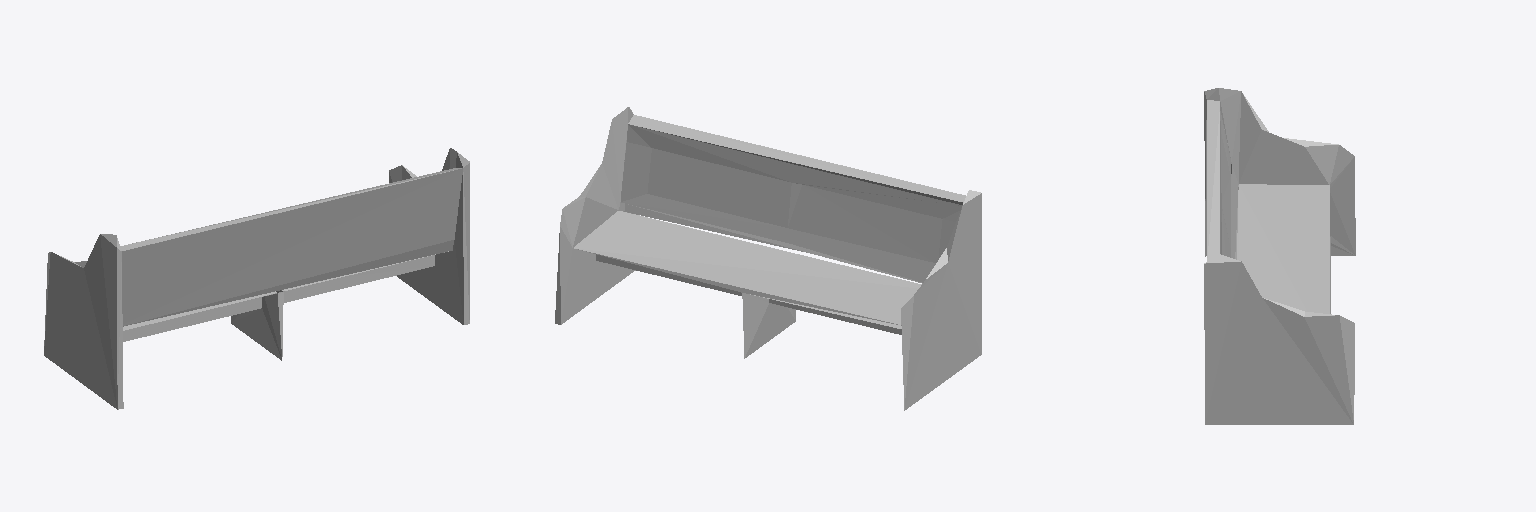
The model's file is ChurchBench_LOD1.obj.
The picture shows the model from 3 angles: view 1: azimuth 30°, elevation 25°; view 2: azimuth 150°, elevation 25°; view 3: azimuth 270°, elevation 25°; orthographic projection.
Visible parts, largest first — view 1: ChurchBench; view 2: ChurchBench; view 3: ChurchBench.
Boxes of the visible parts, box(x1,y1,x2,y2) form: ChurchBench: box(44, 148, 469, 409); ChurchBench: box(555, 107, 981, 410); ChurchBench: box(1204, 88, 1355, 424).
Bounding box in the file's own units: 2.13 × 0.9827 × 0.791.